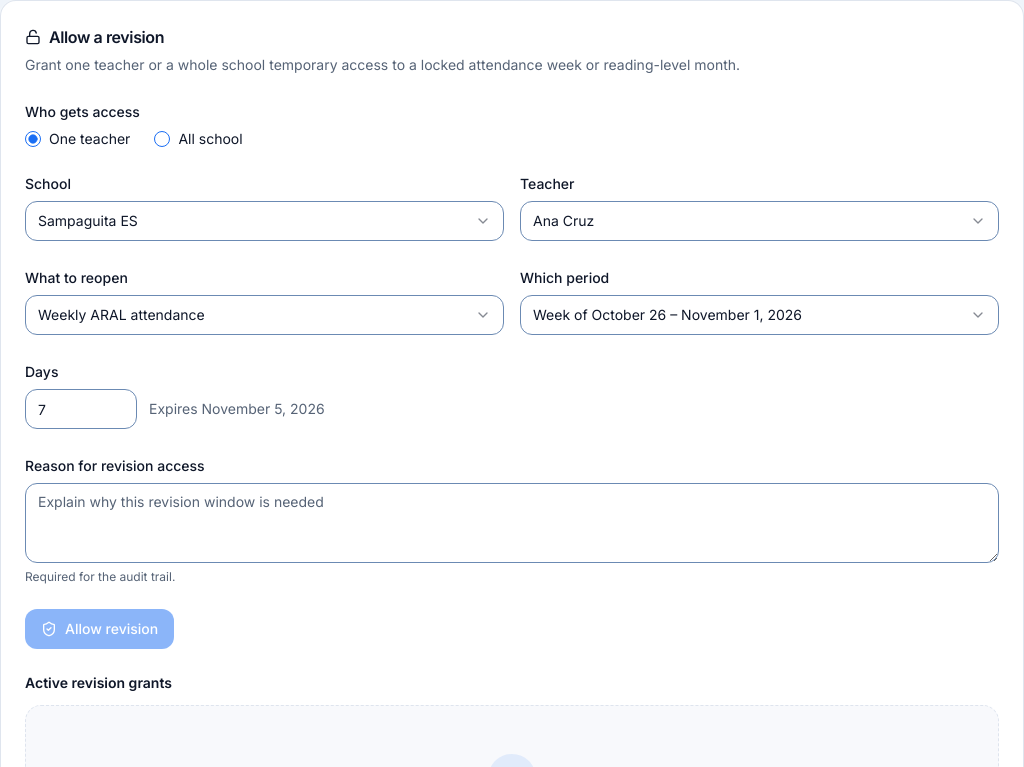
Test case: UnlockConsole — days validation › refuses 0 and 91 days, and accepts 7
The image size is (1024, 767).
Type "Correction requested by school" into the text box labelled "Reason for revision access" at (512, 523), box x1=25 y1=483 x2=999 y2=563
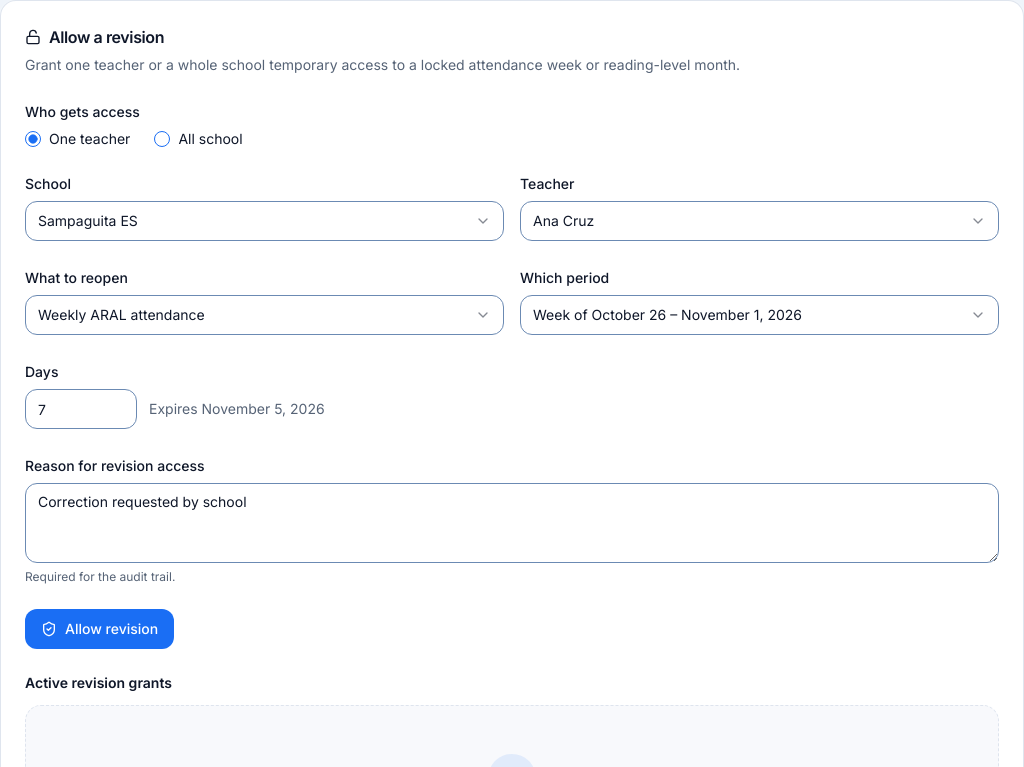
Replace the text in the number field labelled "Days" with "0" at (81, 409), box x1=25 y1=389 x2=137 y2=429
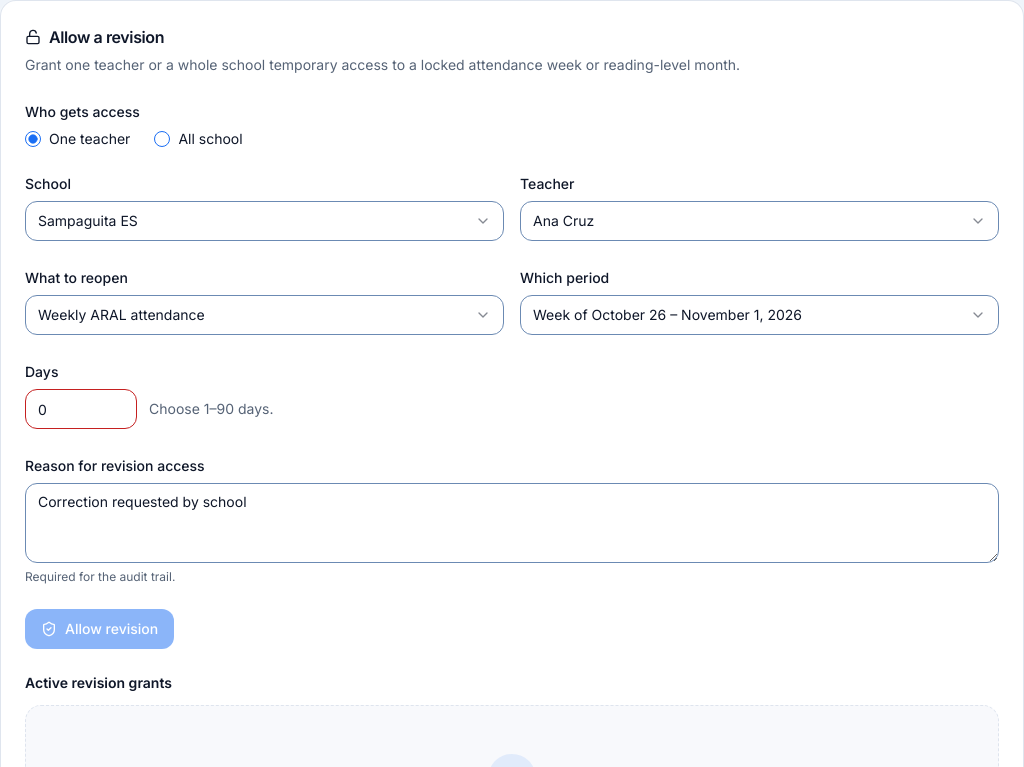
Check: the button "Allow revision" is disabled, box x1=25 y1=609 x2=174 y2=649
Replace the text in the number field labelled "Days" with "91" at (81, 409), box x1=25 y1=389 x2=137 y2=429
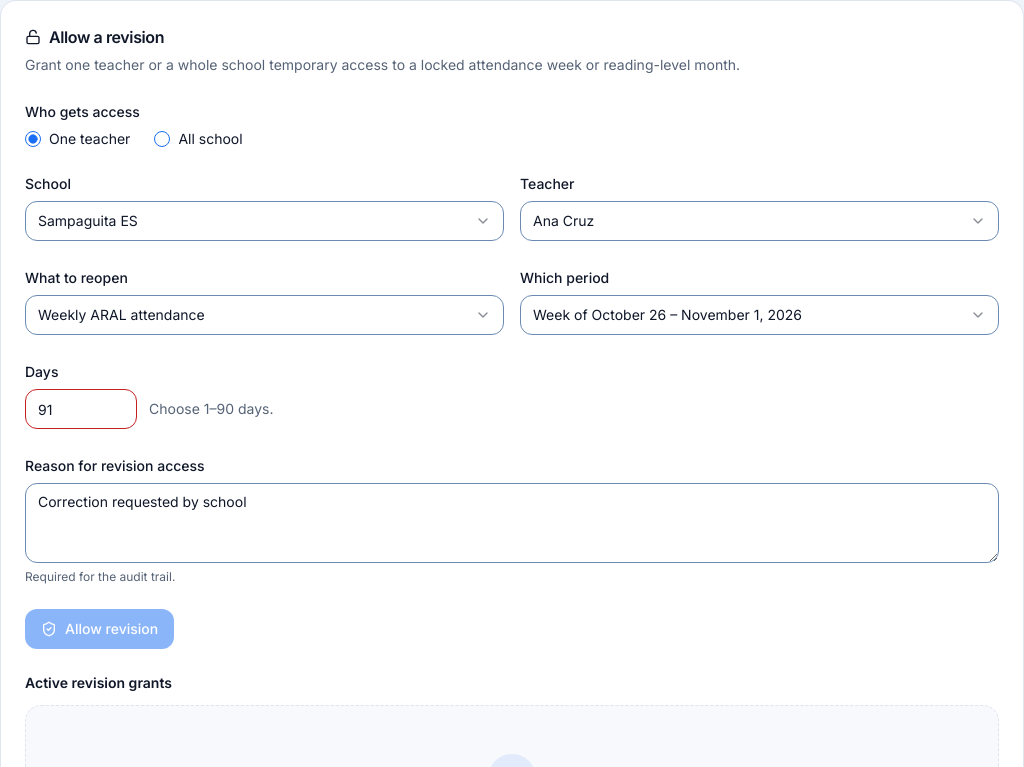
Check: the button "Allow revision" is disabled, box x1=25 y1=609 x2=174 y2=649
Replace the text in the number field labelled "Days" with "7" at (81, 409), box x1=25 y1=389 x2=137 y2=429
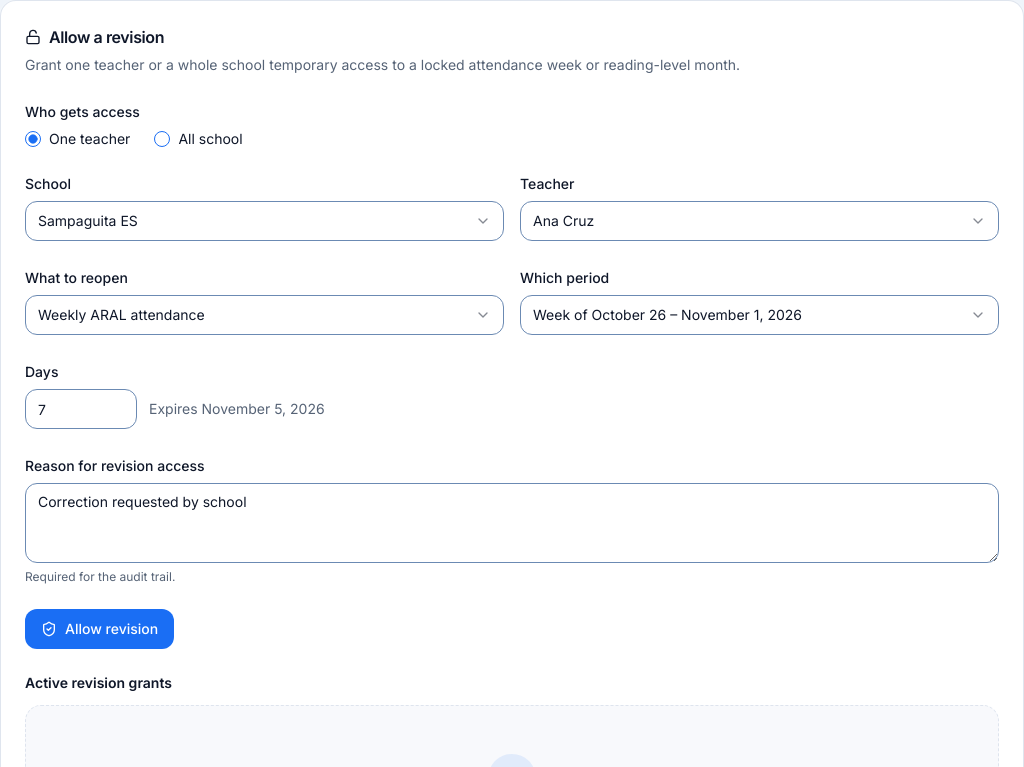
Check: the button "Allow revision" is enabled, box x1=25 y1=609 x2=174 y2=649
